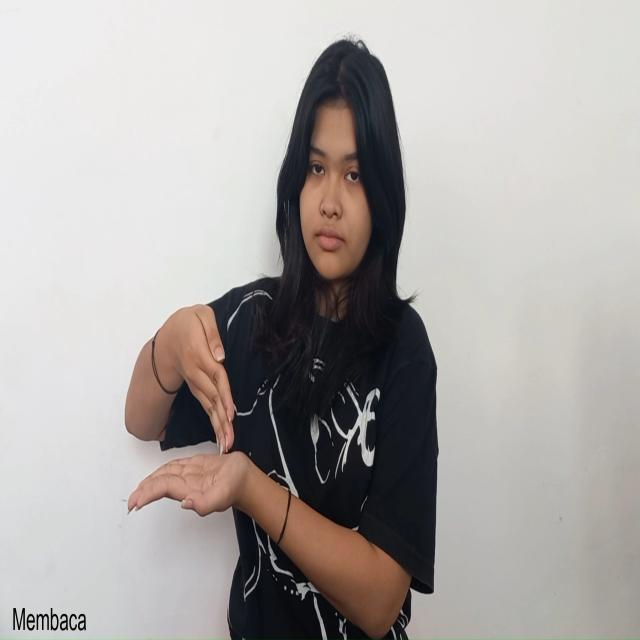Membaca -BISINDO-: (127, 304, 250, 516)
